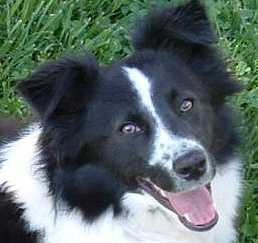Dog: (19, 0, 240, 227)
